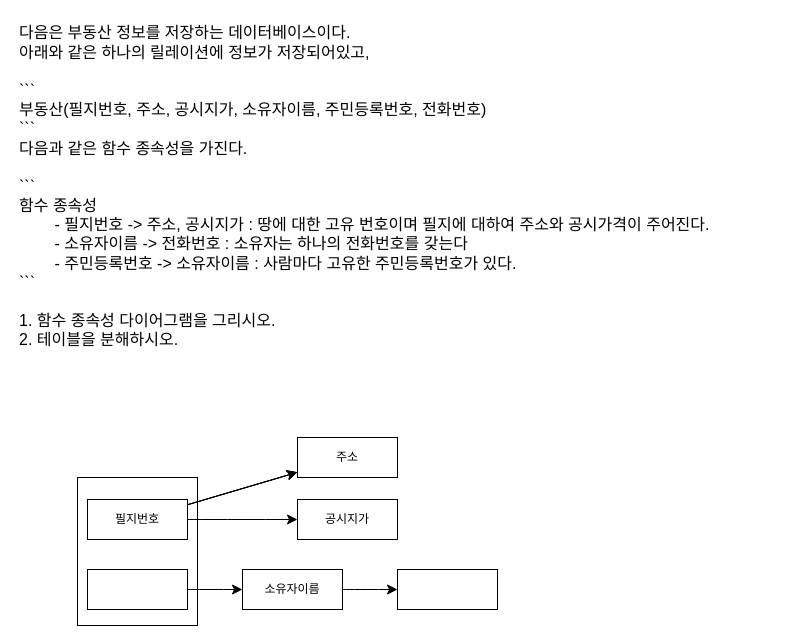
This 791x643 diagram has some shape labels left out. Here are the shapes that lost their labels. From the top down, the box of each, then its label:
(86, 568, 188, 610): 주민등록번호
(396, 568, 498, 610): 전화번호
